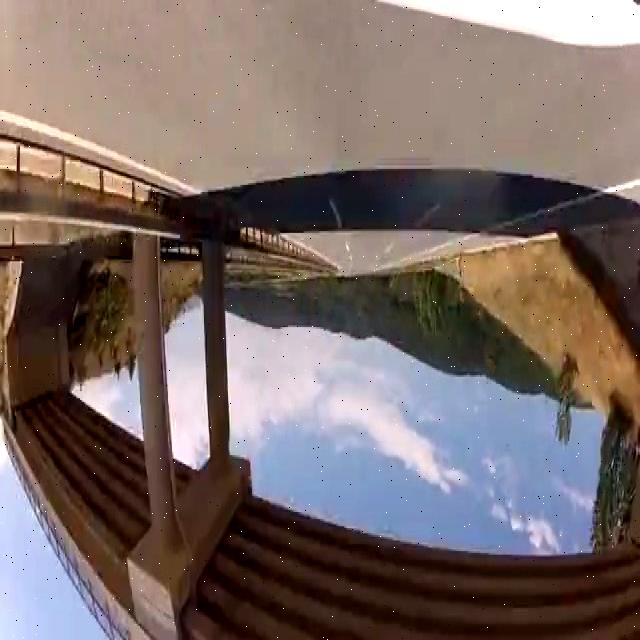lane: (0, 110, 200, 193), (499, 179, 640, 227), (605, 179, 640, 204), (329, 198, 342, 229)
road: (0, 4, 639, 201)
